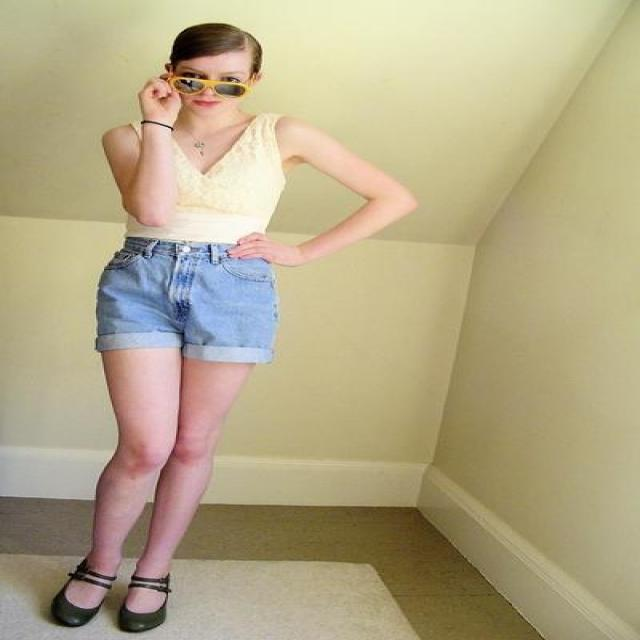shirt: (118, 122, 285, 248)
shoe: (40, 591, 165, 632)
shorts: (61, 237, 277, 591)
sunglass: (158, 68, 245, 105)
